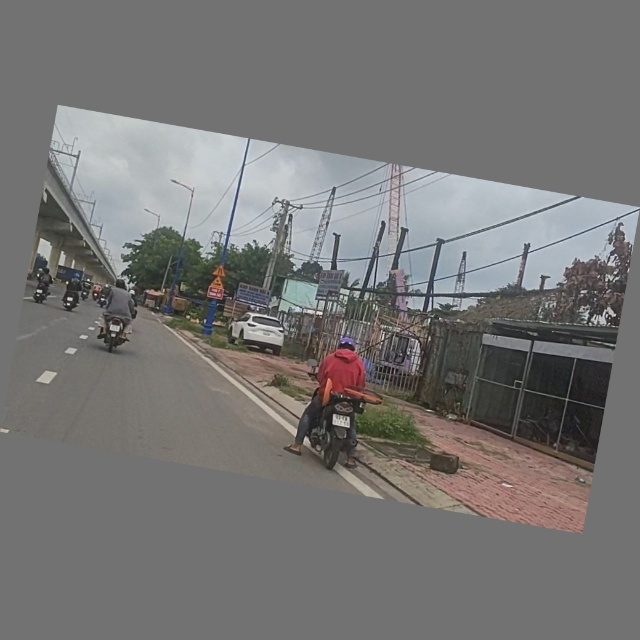W.203c: (212, 263, 228, 278)
W.245a: (210, 276, 227, 289)
